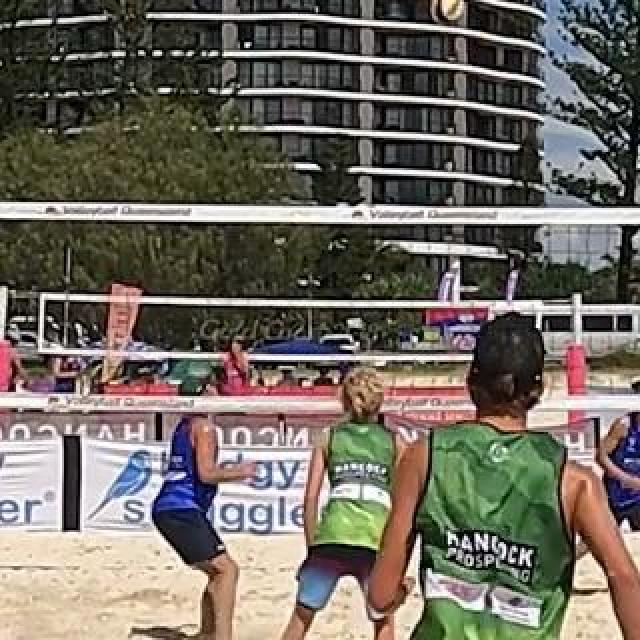volleyball: (433, 0, 465, 24)
